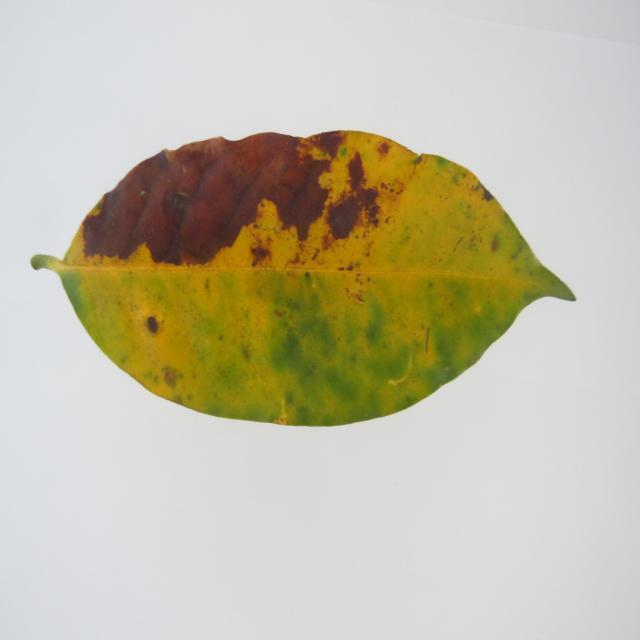DeficienciaNutricional-Potasio: (32, 132, 574, 425)
